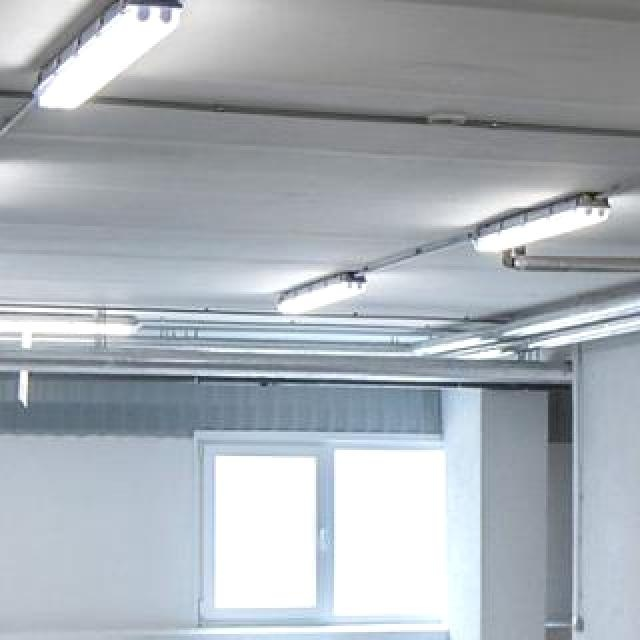fluorescent tube: (22, 0, 194, 126), (464, 176, 631, 262), (269, 258, 373, 333)
